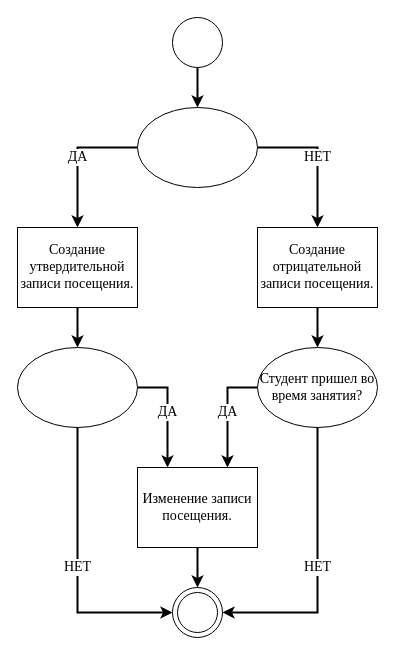
Image size: 395x655. Some labels were removed from this diagram. Here are the shapes that lost their labels. From the top down, the box of each, then its label:
(136, 106, 258, 188): Студент пришел на занятие?
(16, 346, 138, 428): Студент ушел с занятия?
